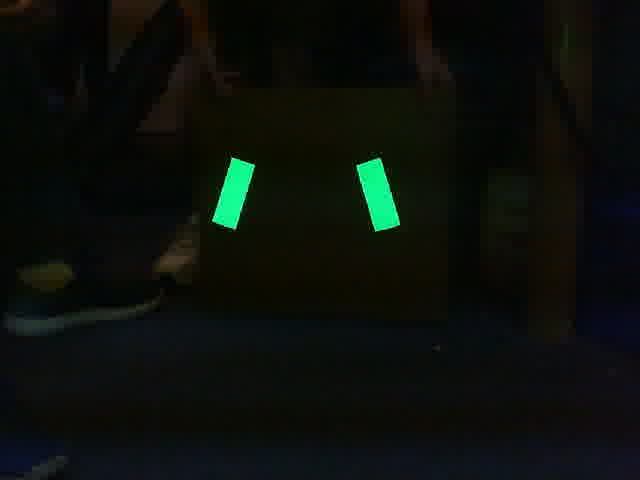target: (212, 157, 401, 231)
